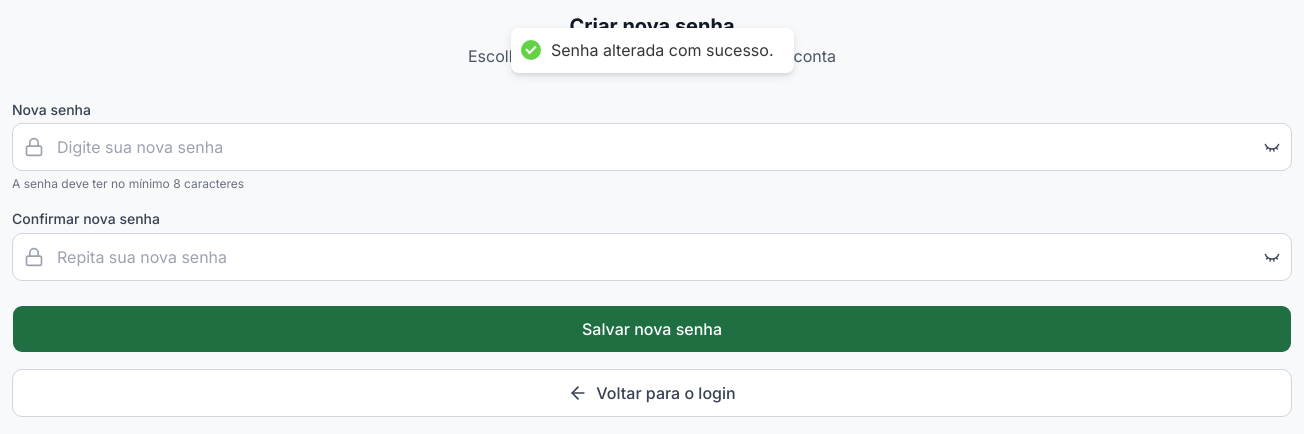
Test: ResetPassword › stays on the page when the token is invalid
In the password field labelled "Nova senha": (652, 147) [12, 123, 1292, 171], type "nova-senha-123"
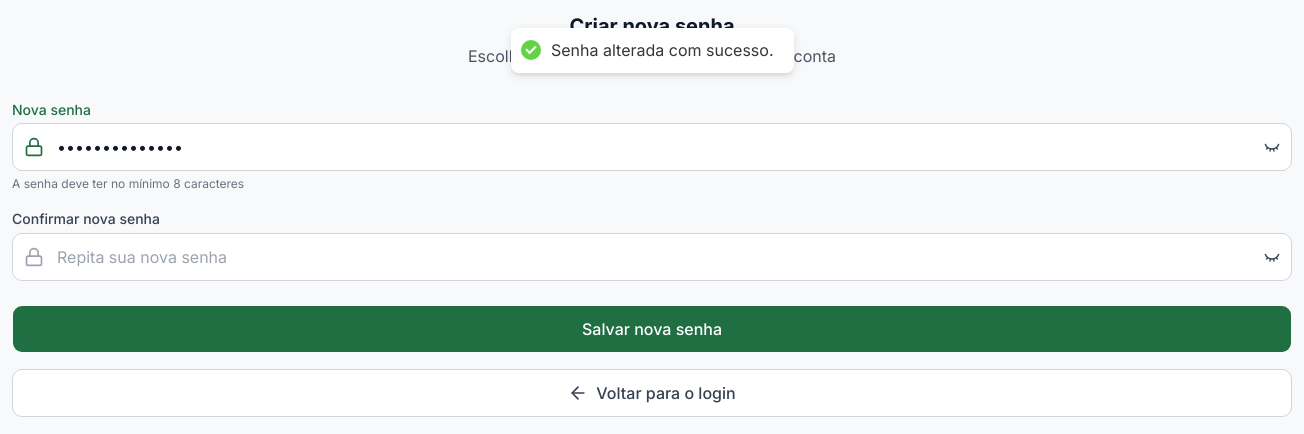
In the password field labelled "Confirmar nova senha": (652, 256) [12, 232, 1292, 280], type "nova-senha-123"
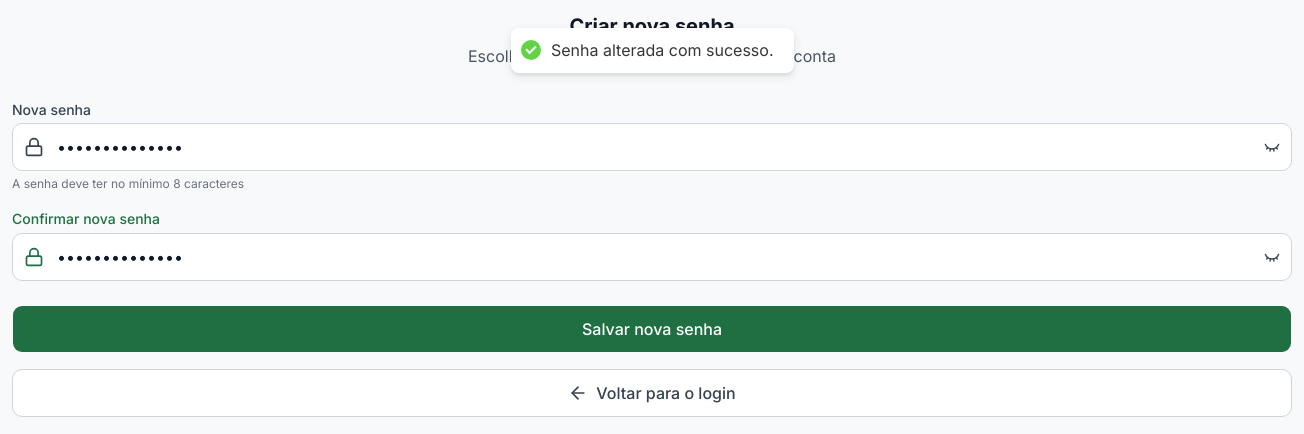
Click the button "Salvar nova senha": (652, 328) [12, 304, 1292, 352]
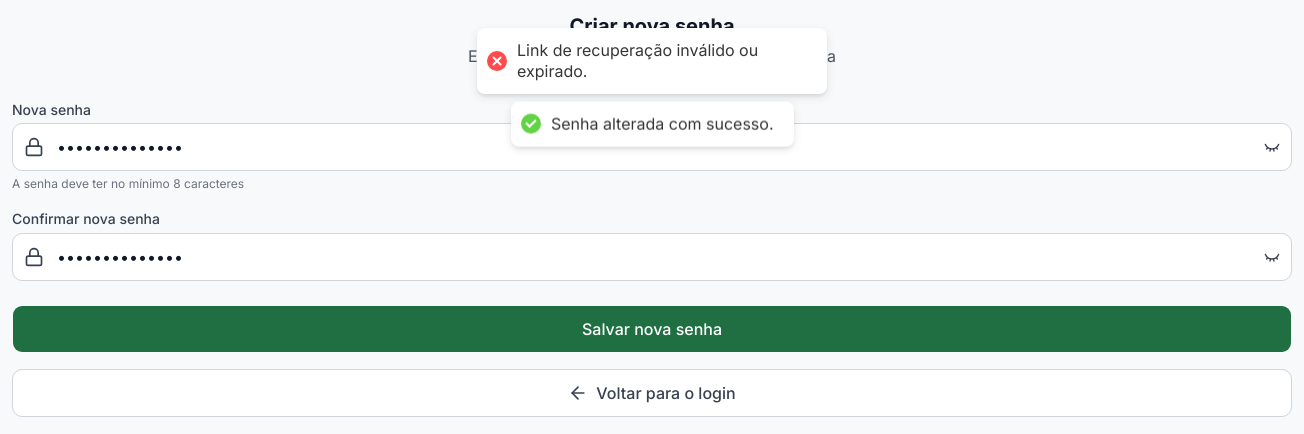
Result: the text "Link de recuperação inválido ou expirado." is shown at [517, 40, 758, 81]
